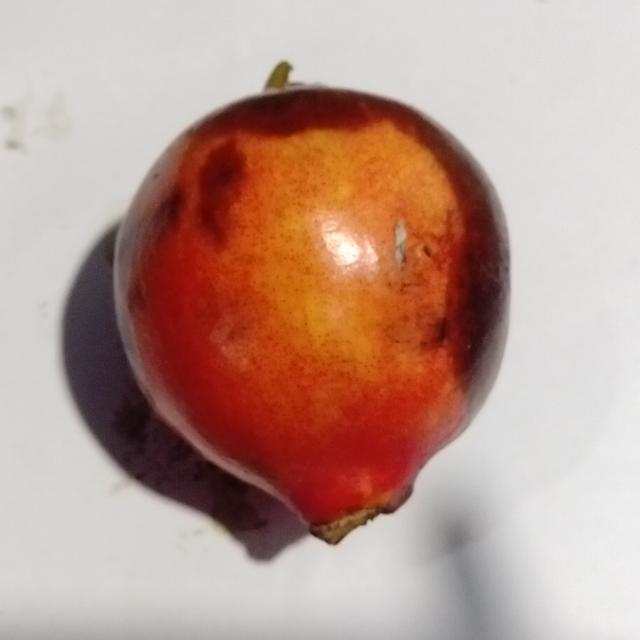Rotten: (108, 61, 516, 548)
